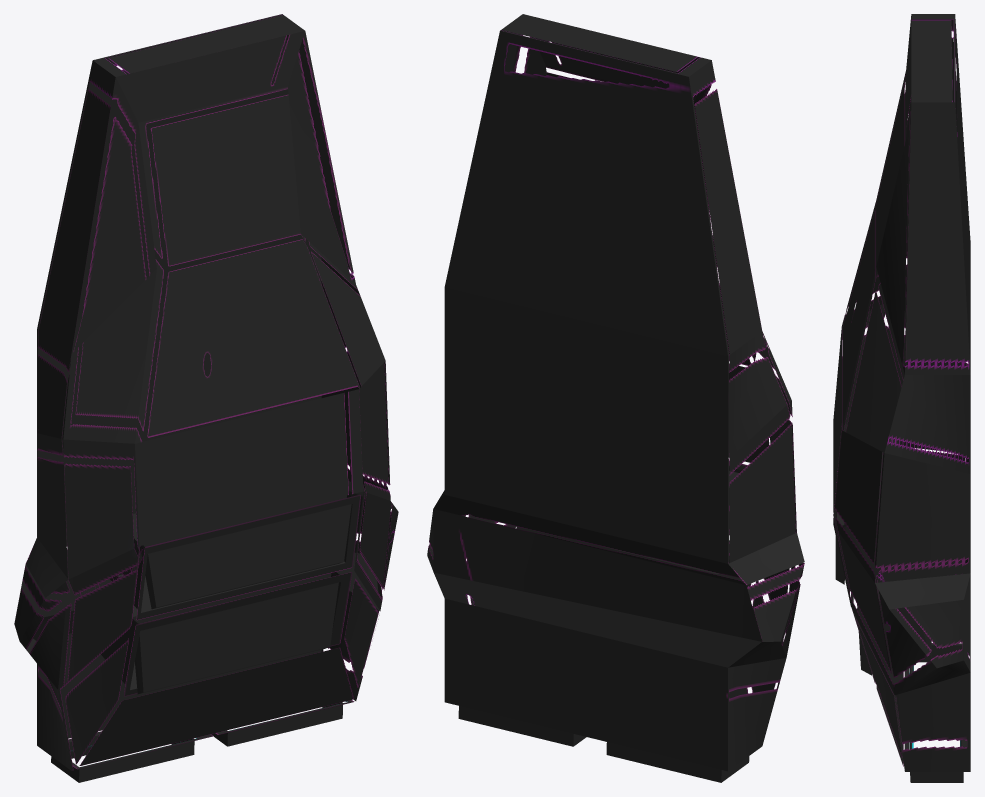
Rendered from retroShip.obj.
3 views of the same model, side by side, from view 1: azimuth 30°, elevation 25°; view 2: azimuth 150°, elevation 25°; view 3: azimuth 270°, elevation 25° (orthographic). The views are drawn at different scales.
Visible parts, largest first — view 1: Cube; view 2: Cube; view 3: Cube.
Boxes of the visible parts, <box> form: Cube: <box>14,14,398,782</box>; Cube: <box>427,14,804,782</box>; Cube: <box>833,14,970,782</box>.
Bounding box in the file's own units: 3.19 × 5.98 × 1.12.
Materials: 1 (1 with a texture image).
